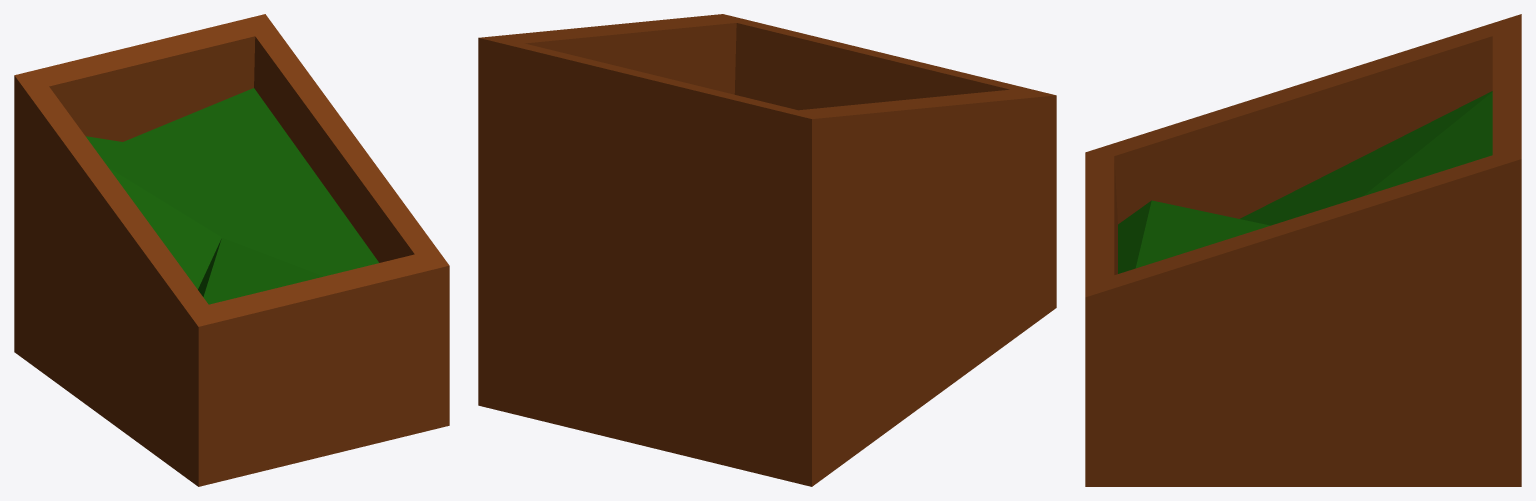
File: Fruit Stand 1.fbx
3 renders of one model, left to right at view 1: azimuth 30°, elevation 25°; view 2: azimuth 150°, elevation 25°; view 3: azimuth 270°, elevation 25°, orthographic. The views are drawn at different scales.
Parts seen in each view (by area): view 1: Box001; view 2: Box001; view 3: Box001.
Boxes of the visible parts, box(x1,y1,x2,y2) form: Box001: box(14, 14, 449, 486); Box001: box(478, 14, 1056, 486); Box001: box(1085, 14, 1521, 486).
Bounding box in the file's own units: 11.17 × 11.78 × 14.19.
